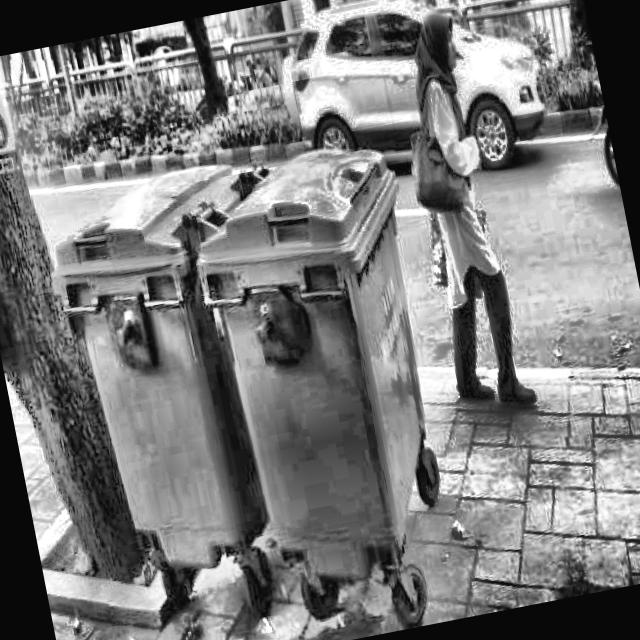Dustbin: (176, 128, 489, 640), (31, 154, 322, 632)
